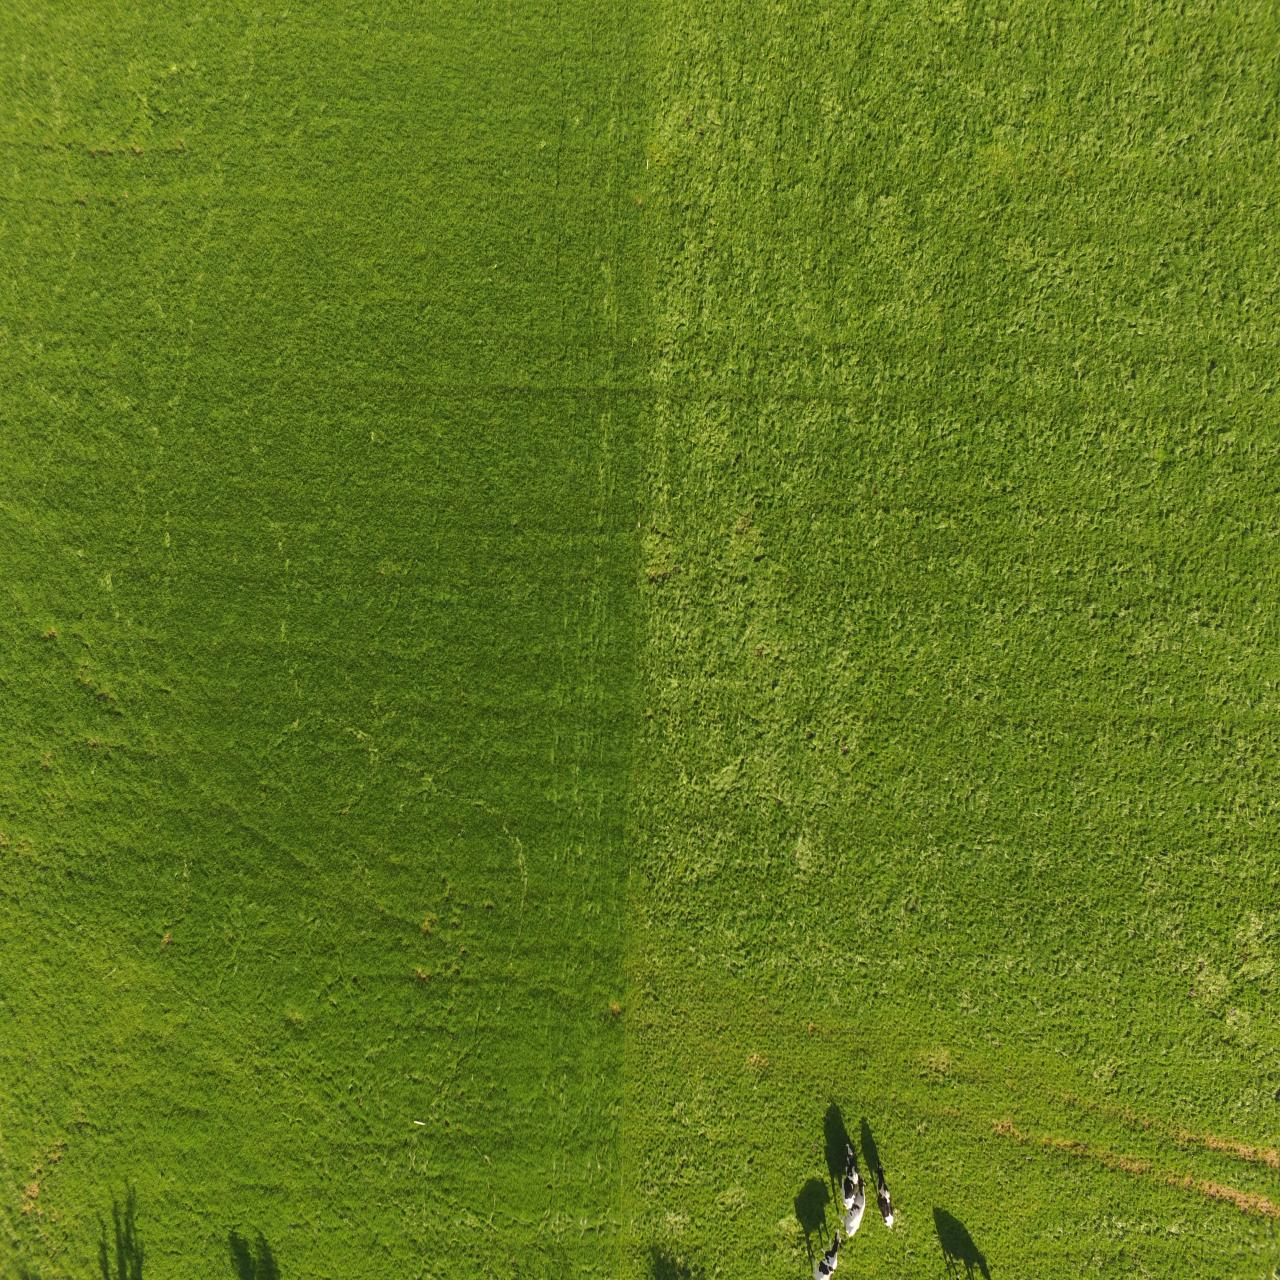cow: (873, 1162, 896, 1227), (816, 1228, 843, 1279), (837, 1141, 856, 1208), (850, 1183, 866, 1241)
